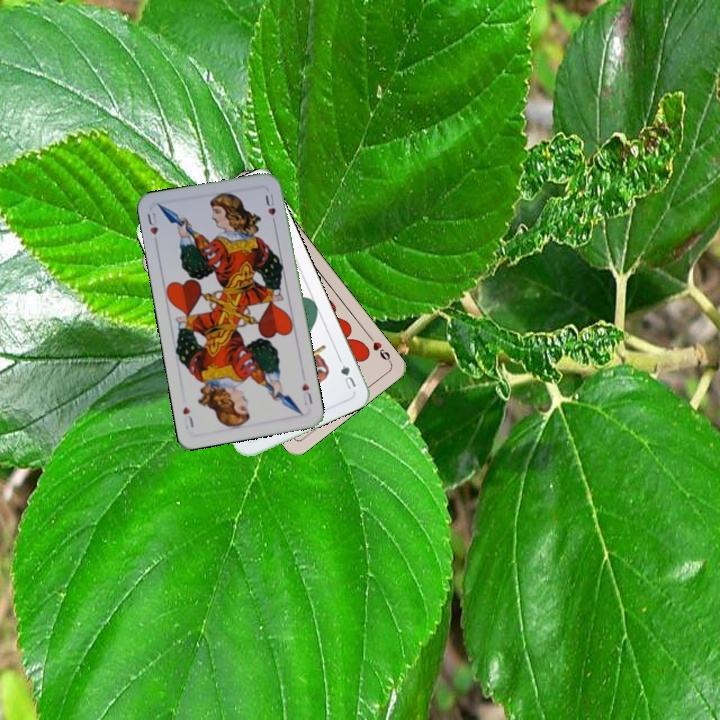GU: (335, 355, 359, 392)
H9: (364, 331, 394, 365)
HU: (143, 208, 161, 248), (298, 379, 315, 408)
